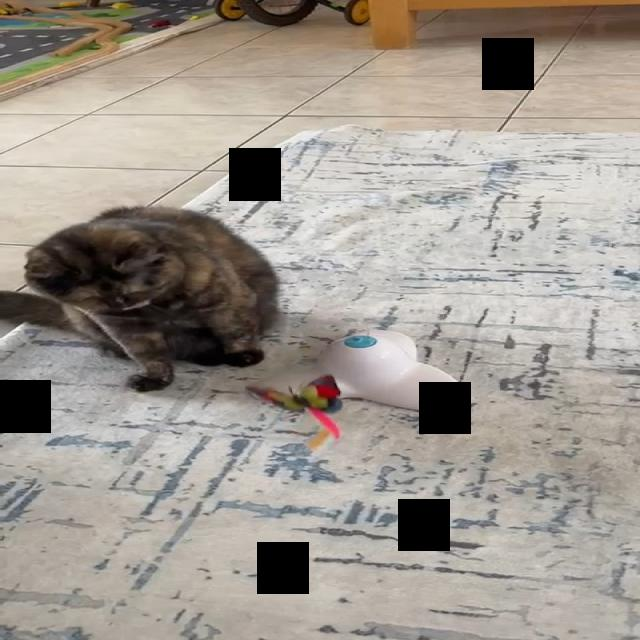authorized: (21, 204, 280, 368), (0, 288, 261, 391)
